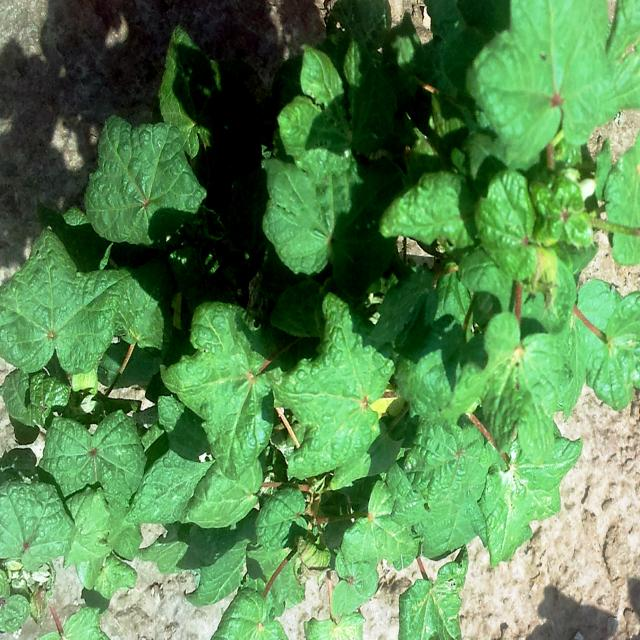Leaf Curl Virus: (17, 112, 202, 570), (269, 351, 496, 560)
